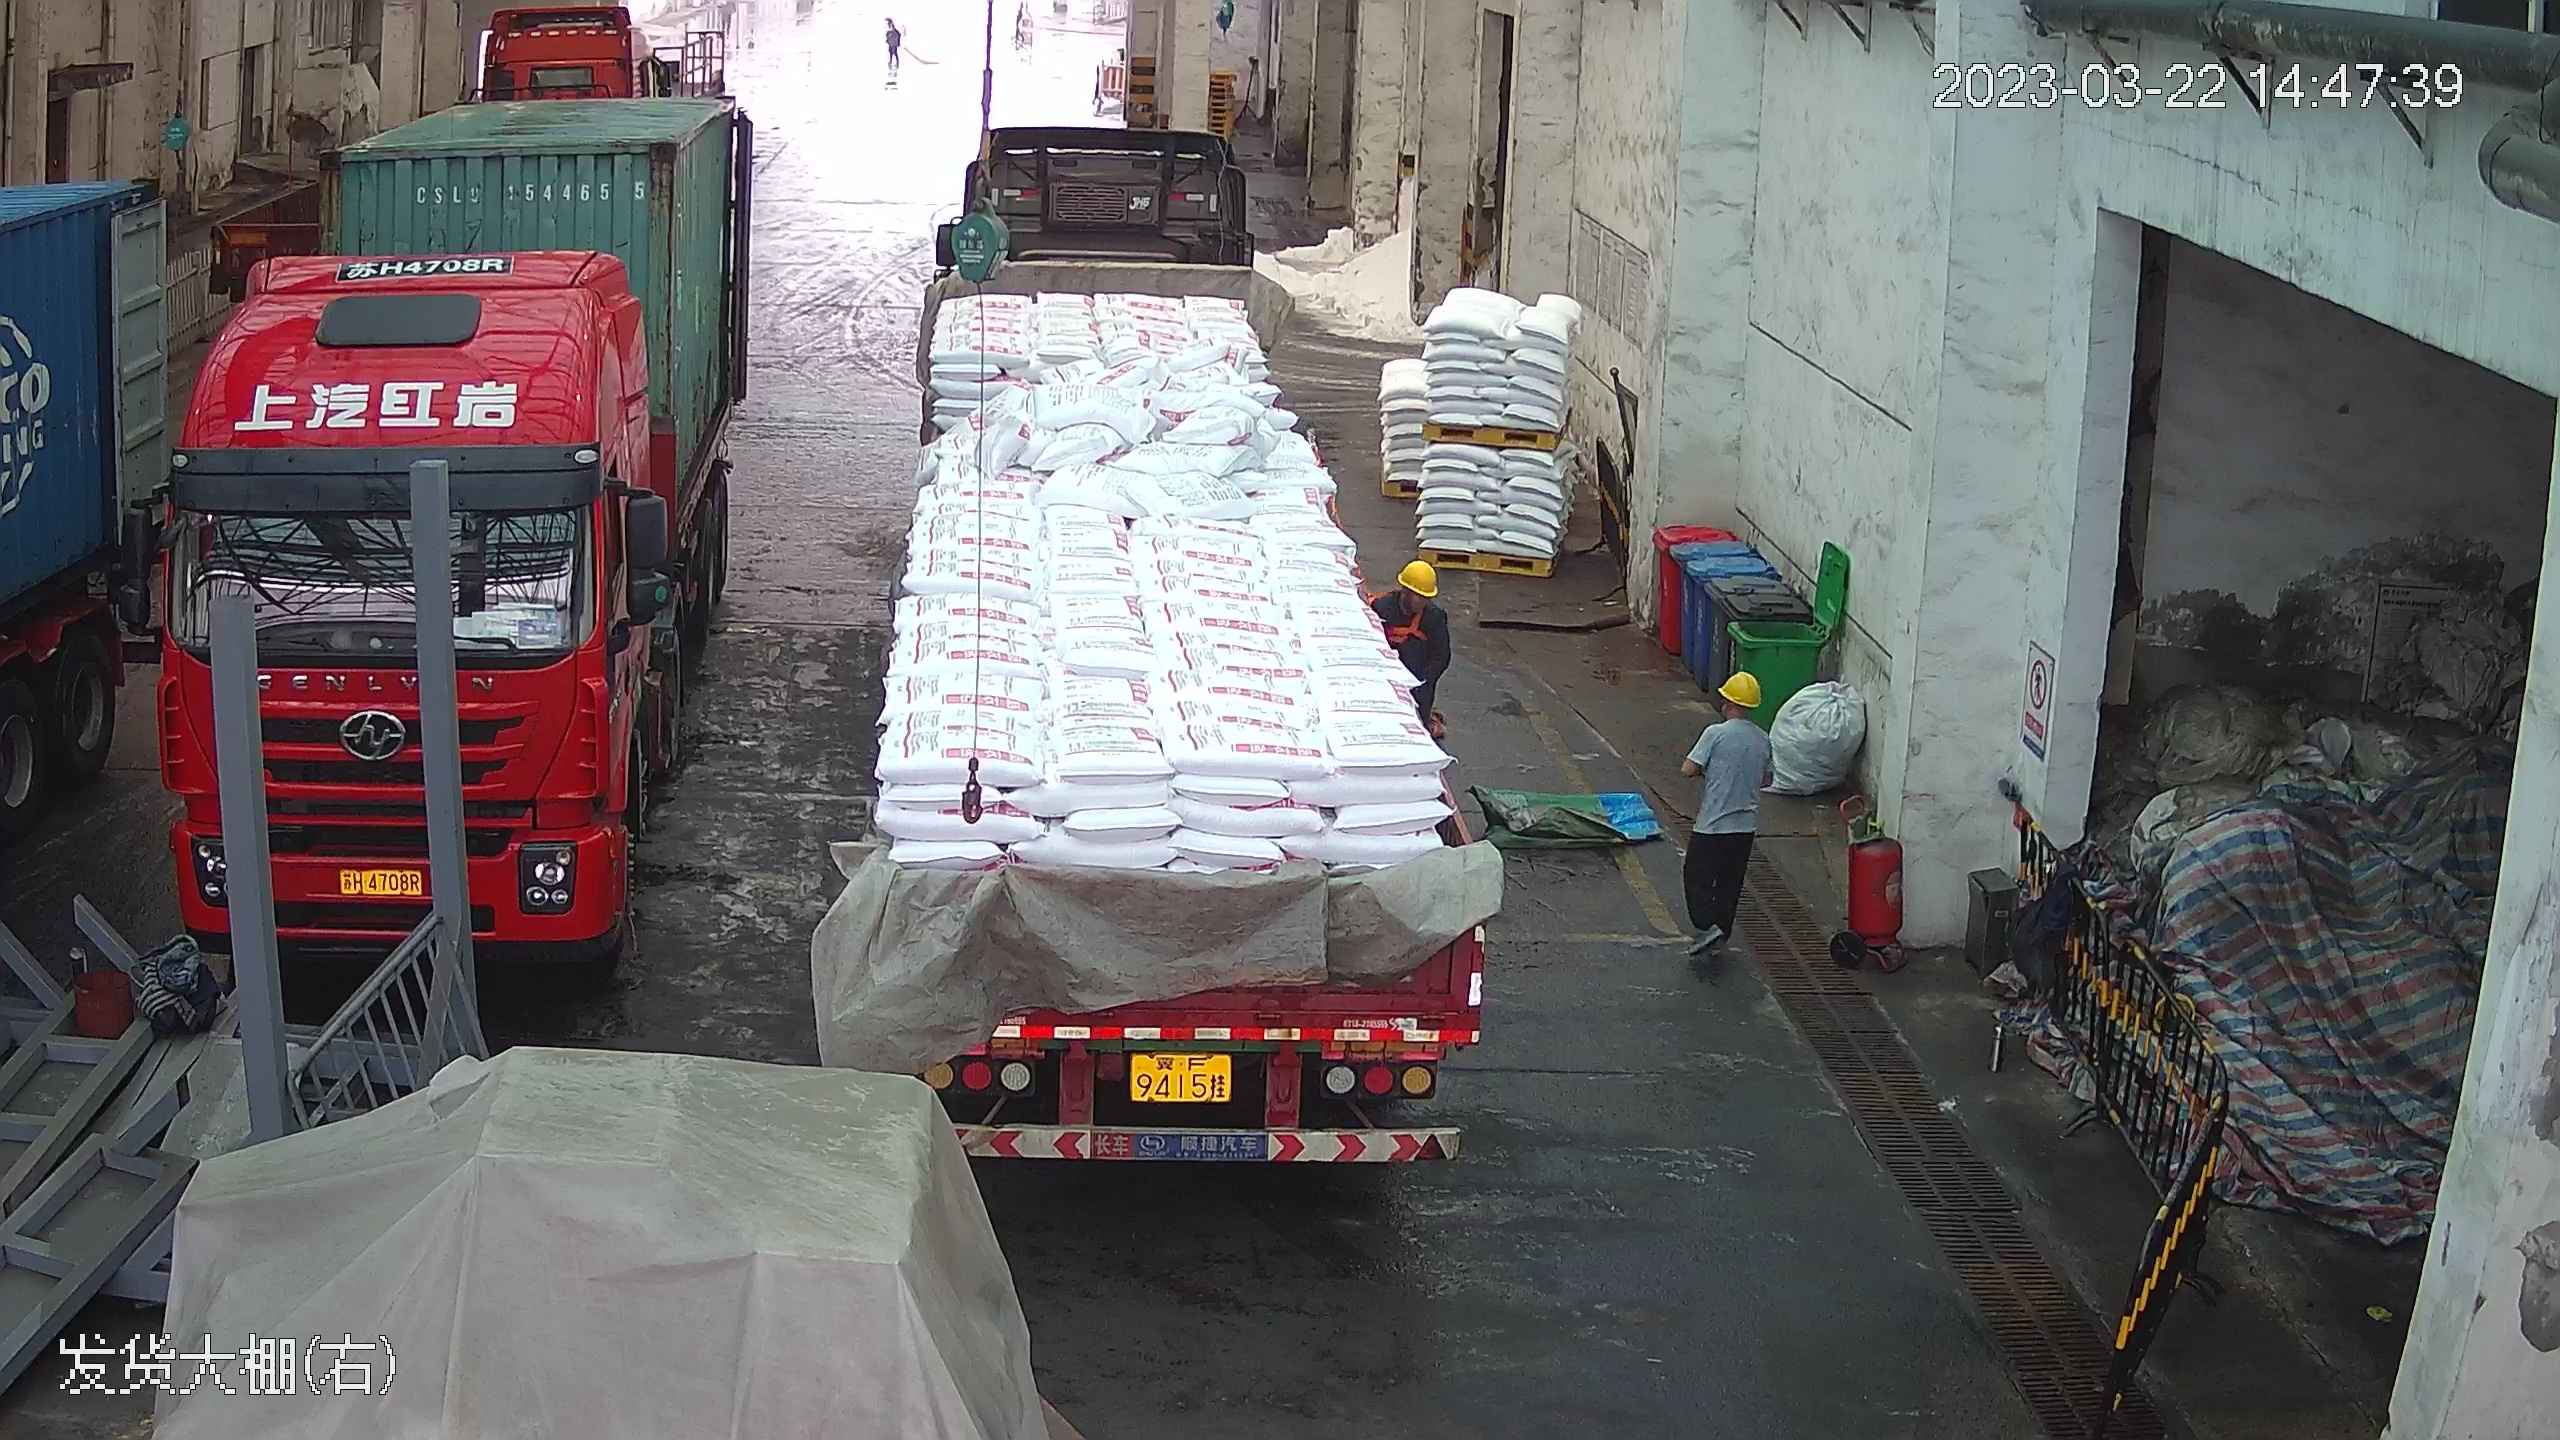belt: (1382, 607, 1432, 652)
head: (1693, 666, 1771, 765), (1381, 555, 1450, 636)
helmet: (1714, 667, 1763, 707), (1394, 554, 1440, 594)
people: (1668, 664, 1774, 964), (1372, 549, 1460, 736), (879, 10, 911, 85)
truck: (844, 66, 1511, 1199), (146, 18, 751, 962), (1, 43, 109, 967)
